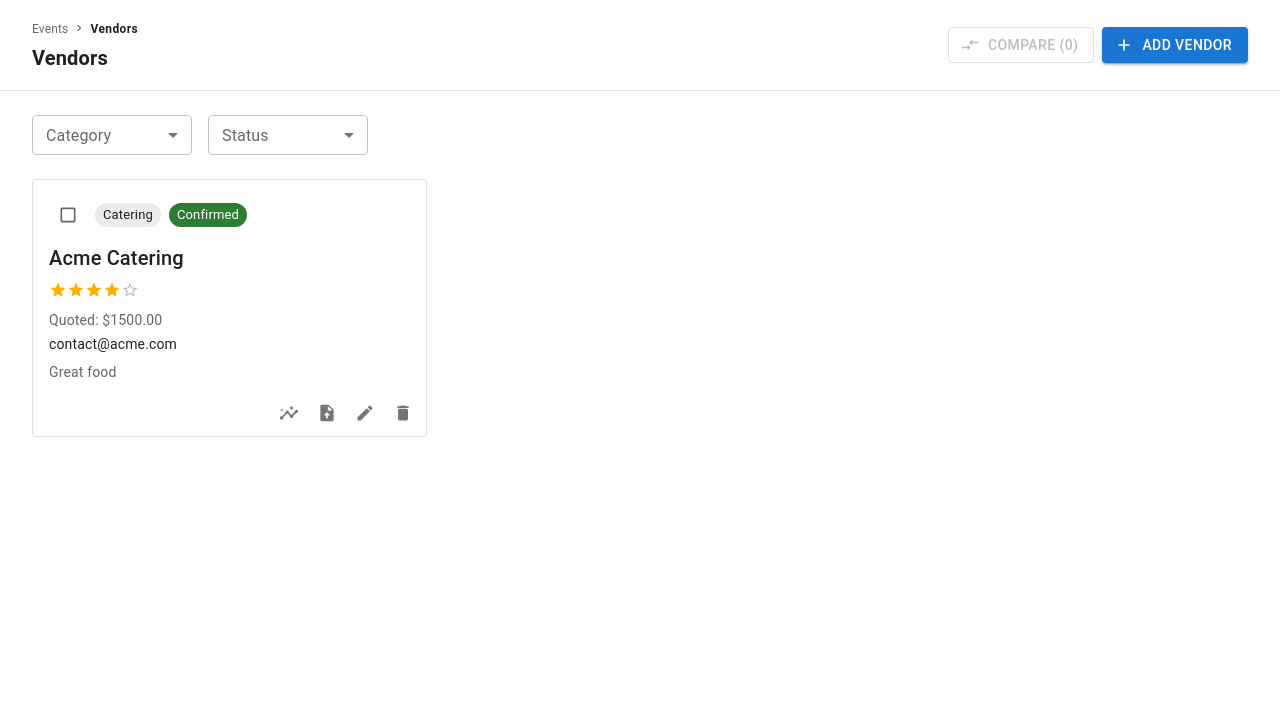
VendorsPage › opens the add vendor dialog on button click
Expected: the heading "Acme Catering" is shown, [49,246,184,270]
Click the button "Add Vendor": (1175, 45) [1102,27,1248,63]
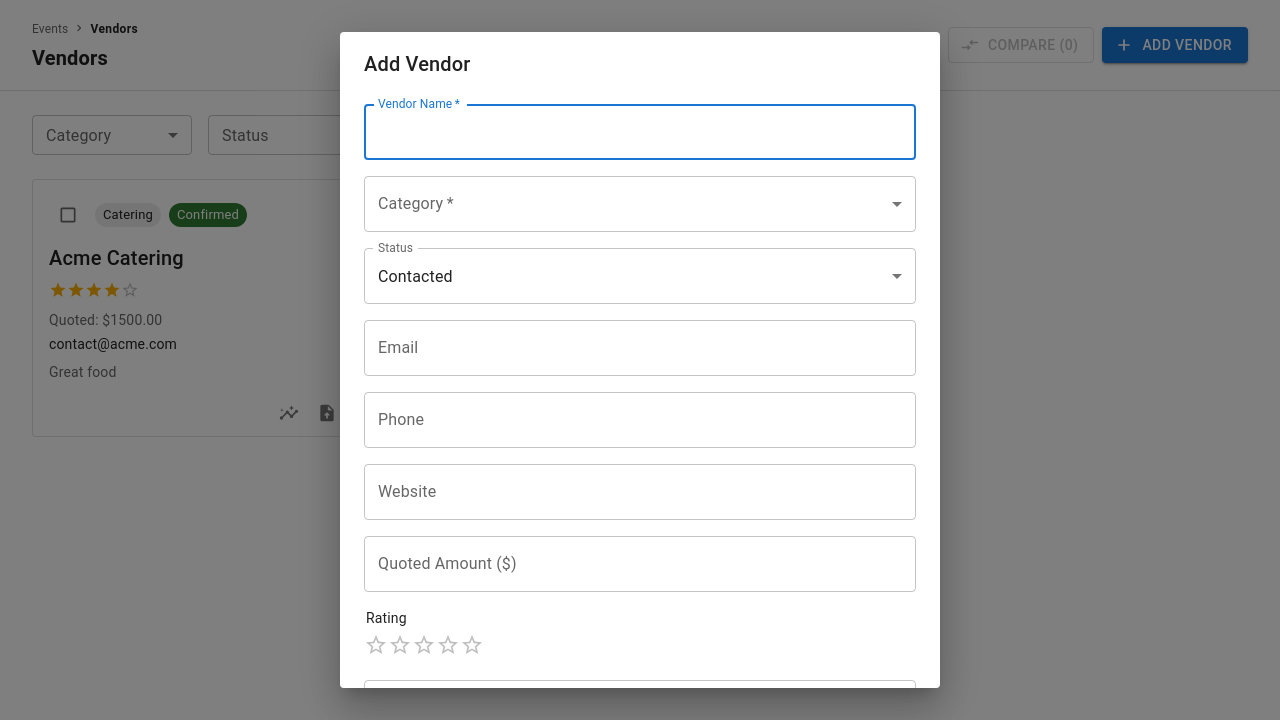
Now the dialog is shown, box [340,32,940,688]
Now the field labelled "Vendor Name *" is shown, box [364,104,916,160]
